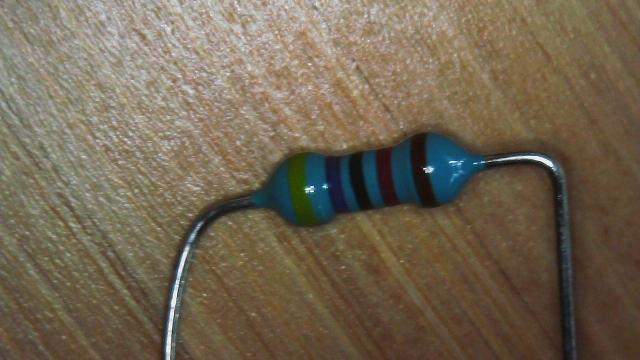black: (348, 152, 372, 209)
brown: (410, 133, 438, 207)
red: (376, 148, 400, 205)
resistor: (258, 116, 487, 232)
violet: (325, 156, 349, 212)
yellow: (288, 153, 318, 226)
